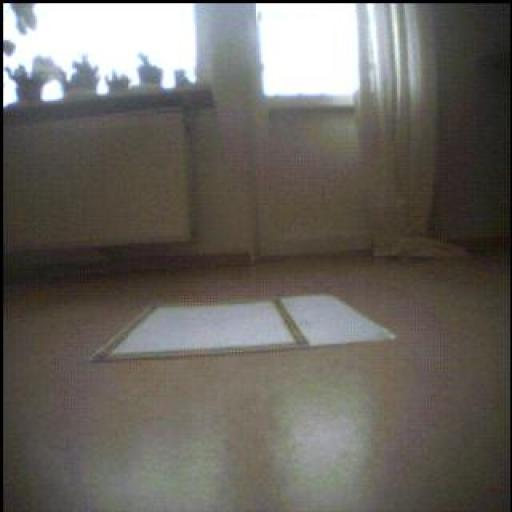Pad: (94, 295, 396, 361)
